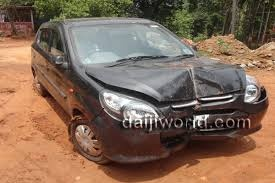Smashed: (143, 61, 251, 147)
